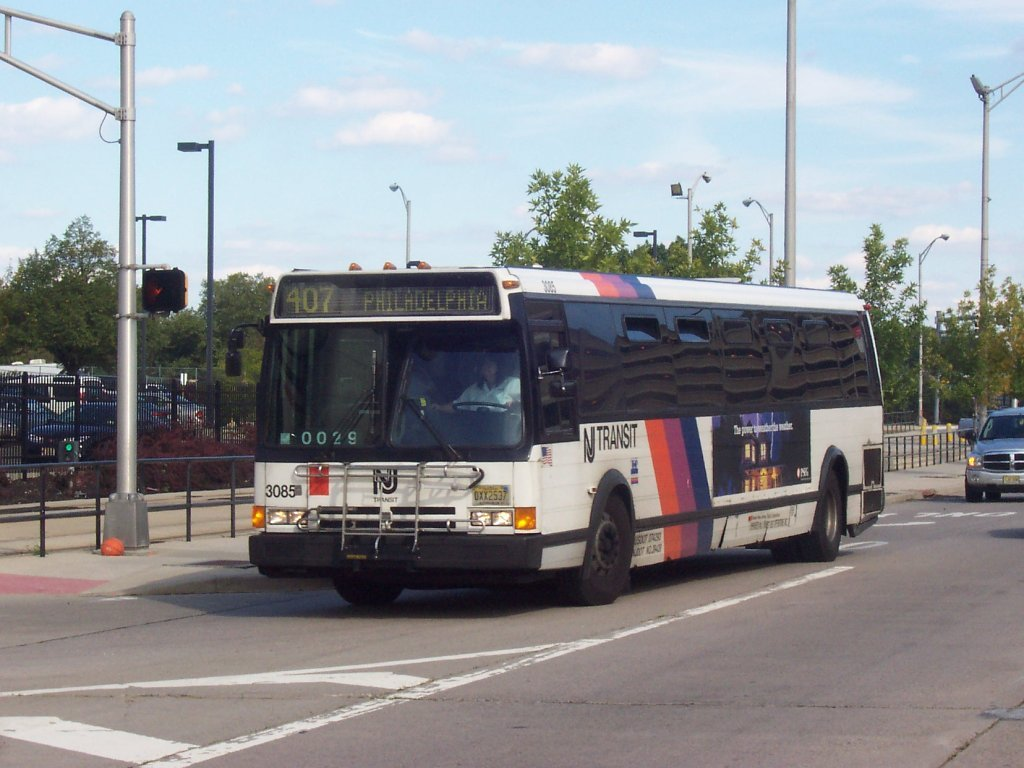bus: (250, 261, 885, 605)
